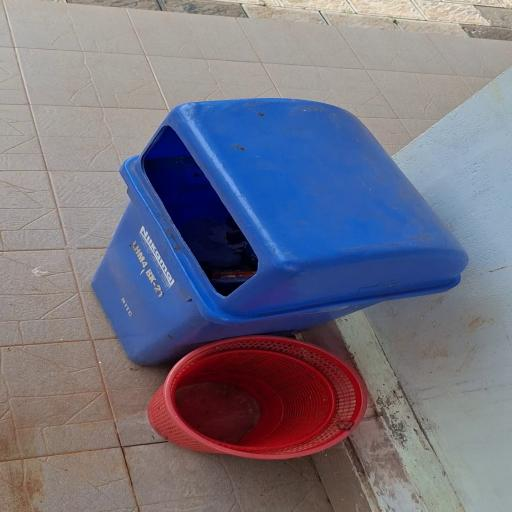Nilkamal-dustbin-detection: (92, 99, 467, 365)
